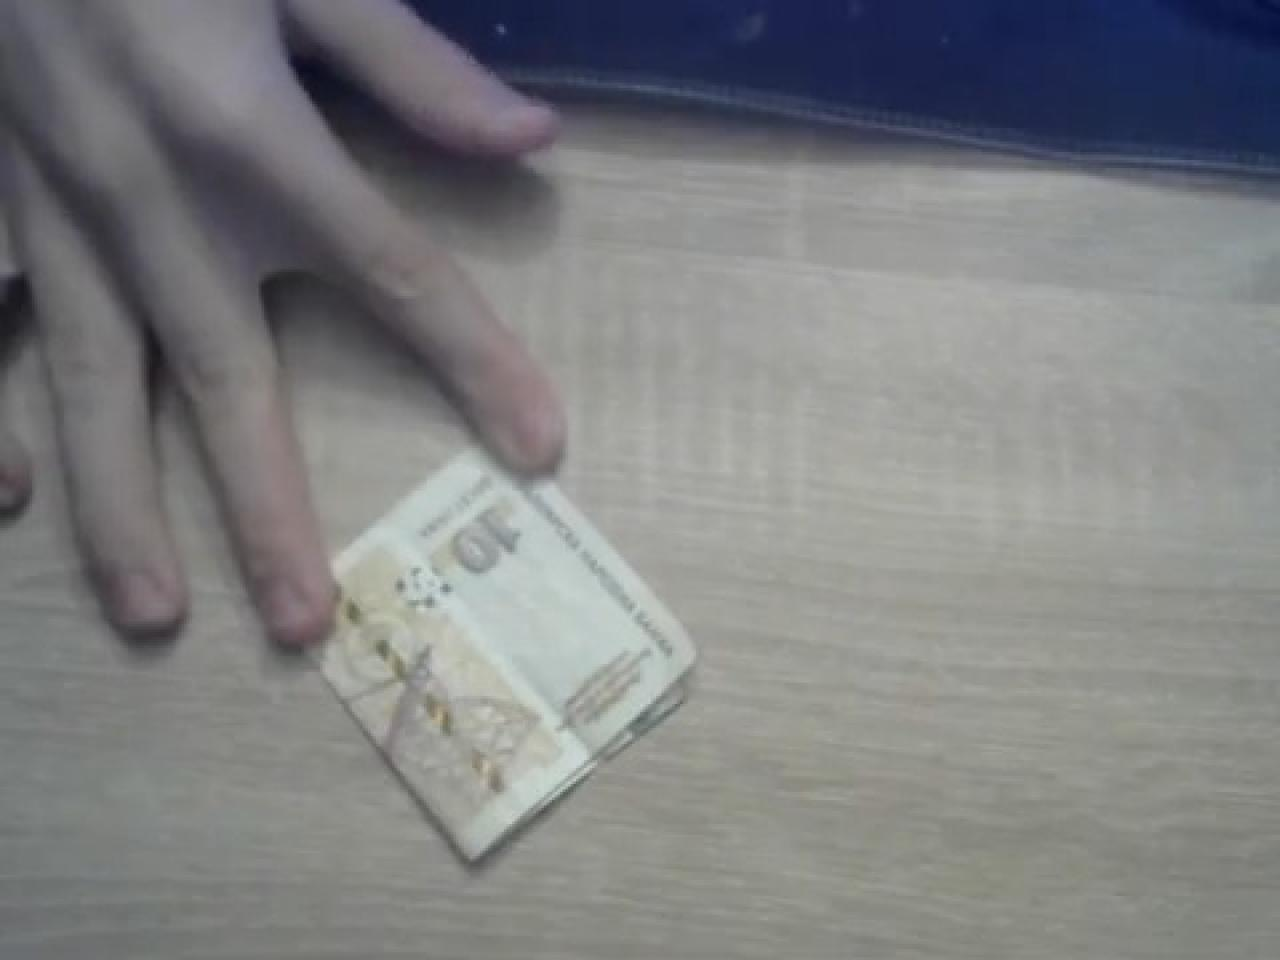10leva: (314, 440, 698, 867)
